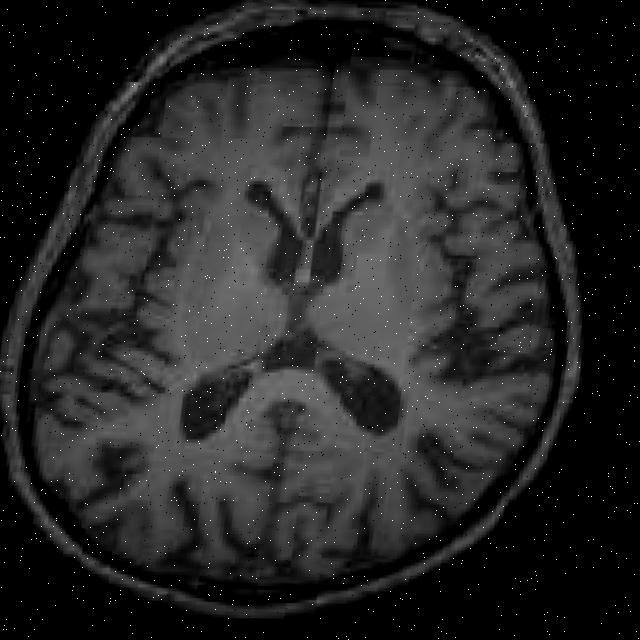NoTumor: (0, 0, 629, 640)
